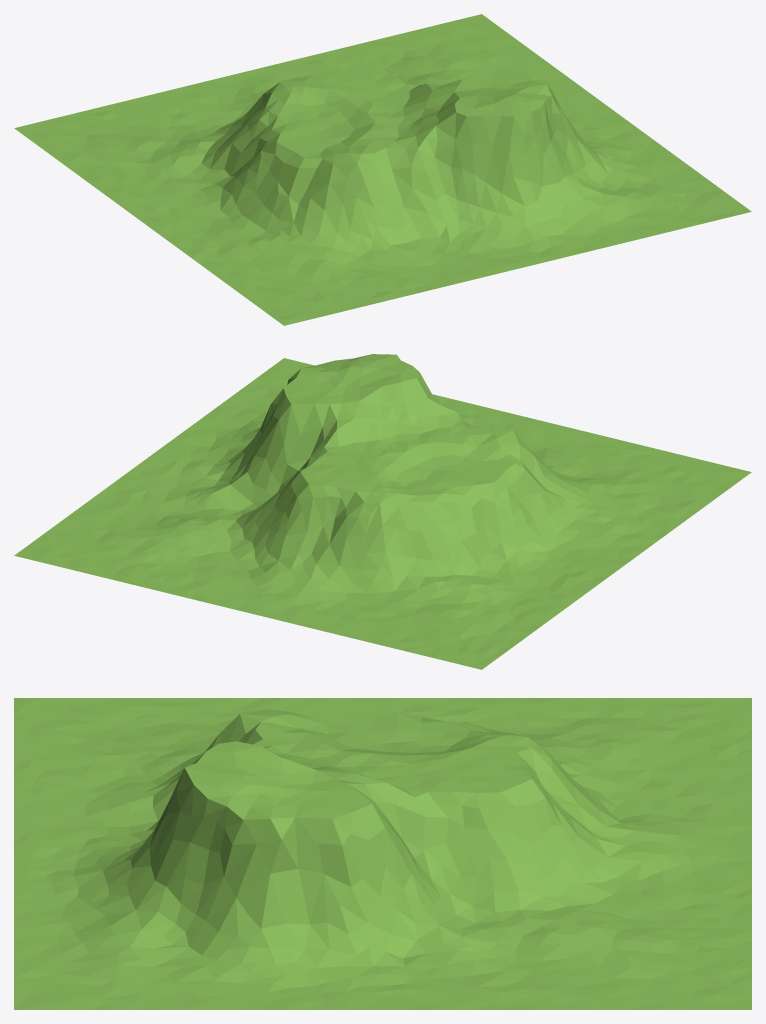
The model's file is MT_Terrain_L_c_18.fbx.
3 renders of one model, top to bottom at view 1: azimuth 30°, elevation 25°; view 2: azimuth 150°, elevation 25°; view 3: azimuth 270°, elevation 25°, orthographic. The views are drawn at different scales.
Visible parts, largest first — view 1: MT_Terrain_L_c_18; view 2: MT_Terrain_L_c_18; view 3: MT_Terrain_L_c_18.
Part boxes in pixels (bbox=[...]): MT_Terrain_L_c_18: bbox=[14, 14, 751, 325]; MT_Terrain_L_c_18: bbox=[14, 354, 751, 669]; MT_Terrain_L_c_18: bbox=[14, 698, 751, 1009].
Bounding box in the file's own units: 10000 × 1900 × 10000.
